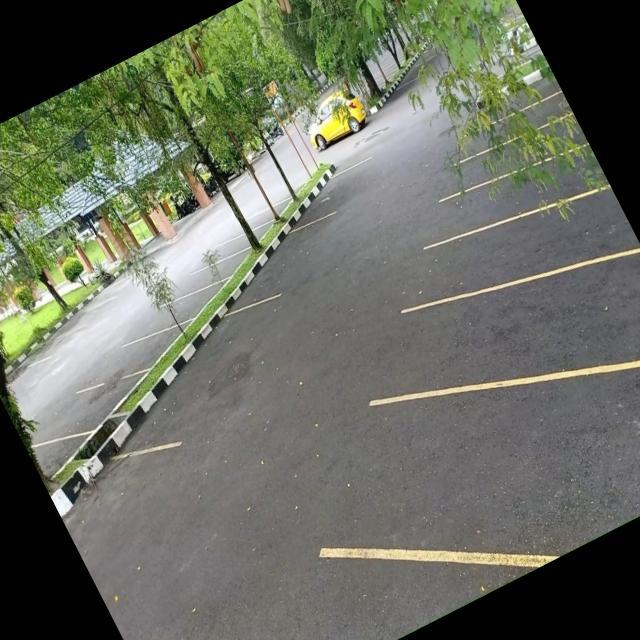empty: (426, 305, 640, 584), (449, 235, 640, 433), (466, 172, 638, 310), (137, 304, 299, 446), (243, 216, 351, 303), (30, 378, 131, 454), (296, 162, 385, 228), (98, 325, 180, 388), (160, 282, 228, 334), (187, 248, 248, 296)
